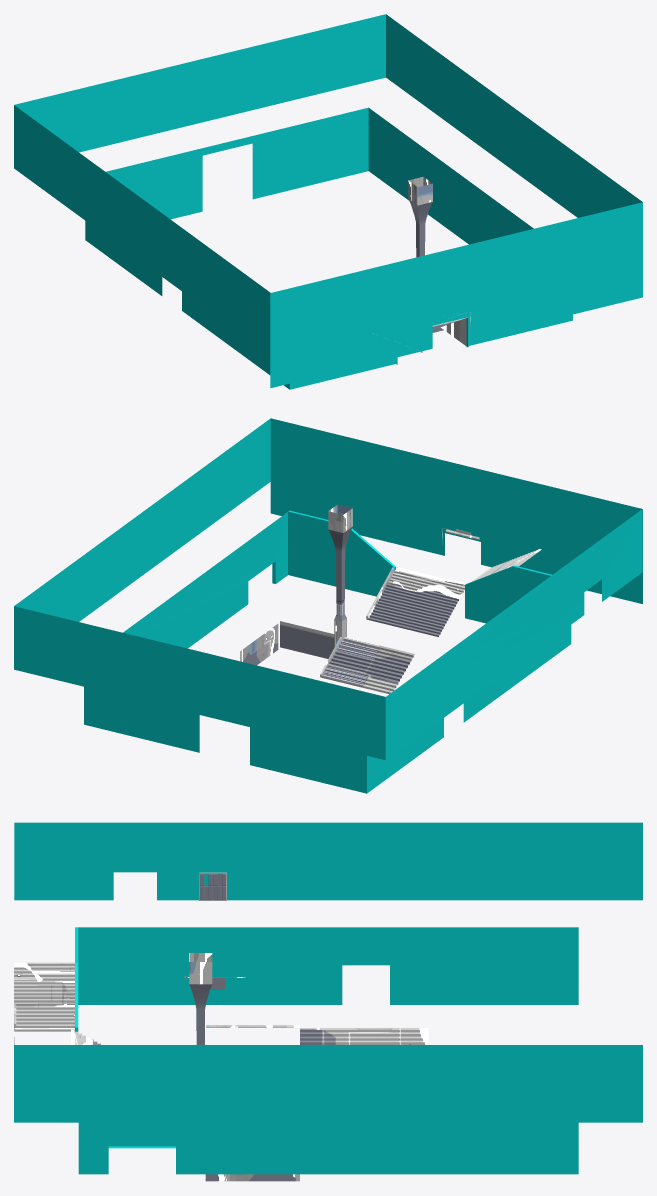
File: Salota.fbx
The picture shows the model from 3 angles, top to bottom: view 1: azimuth 30°, elevation 25°; view 2: azimuth 150°, elevation 25°; view 3: azimuth 270°, elevation 25°; orthographic projection. The views are drawn at different scales.
Parts seen in each view (by area): view 1: Pared4_Piso3, Pared2_Piso3, Pared1_Piso3, Pared3_Piso3, Pared1_Piso2, Pared2_Piso2, Pared5_Piso2, Columna, Pared3_Piso2, Pared4_Piso2; view 2: Pared4_Piso3, Pared2_Piso3, Pared1_Piso3, Pared3_Piso3, Pared1_Piso2, Pared2_Piso2, Pared3_Piso2, Escalera_1, Pared5_Piso2, Escalera_2, Pared4_Piso2, Columna (+2 smaller); view 3: Pared3_Piso3, Pared1_Piso3, Pared5_Piso2, Pared2_Piso2, Escalera, Escalera_3, Columna, Pared_1_piso1, Puerta.
Boxes of the visible parts, x1,y1,x2,y2 form: Pared4_Piso3: (270, 202, 642, 388); Pared2_Piso3: (14, 14, 385, 152); Pared1_Piso3: (14, 105, 270, 355); Pared3_Piso3: (386, 14, 642, 217); Pared1_Piso2: (106, 107, 368, 219); Pared2_Piso2: (368, 108, 533, 244); Pared5_Piso2: (85, 221, 289, 389); Columna: (408, 176, 432, 257); Pared3_Piso2: (466, 314, 572, 347); Pared4_Piso2: (289, 357, 397, 389); Pared4_Piso3: (270, 418, 642, 603); Pared2_Piso3: (14, 606, 385, 760); Pared1_Piso3: (385, 509, 642, 759); Pared3_Piso3: (14, 418, 270, 621); Pared1_Piso2: (84, 687, 366, 793); Pared2_Piso2: (123, 512, 287, 648); Pared3_Piso2: (288, 510, 395, 596); Escalera_1: (368, 567, 465, 636); Pared5_Piso2: (367, 625, 571, 793); Escalera_2: (321, 637, 415, 694); Pared4_Piso2: (465, 565, 552, 623); Columna: (328, 504, 352, 647); Pared3_Piso3: (14, 1045, 642, 1122); Pared1_Piso3: (14, 822, 642, 900); Pared5_Piso2: (78, 927, 578, 1004); Pared2_Piso2: (78, 1122, 578, 1174); Escalera: (14, 962, 74, 1031); Escalera_3: (300, 1028, 428, 1044); Columna: (189, 953, 212, 1044); Pared_1_piso1: (205, 1174, 299, 1181); Puerta: (199, 872, 226, 900).
Bounding box in the file's own units: 73.67 × 28.98 × 88.02.
Materials: 2 (1 with a texture image).
